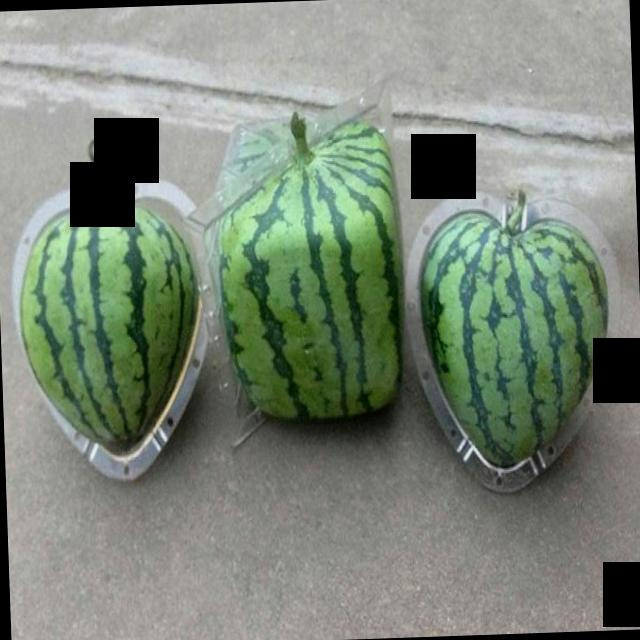watermelon: (212, 113, 404, 423), (418, 203, 608, 468), (20, 201, 201, 446)
